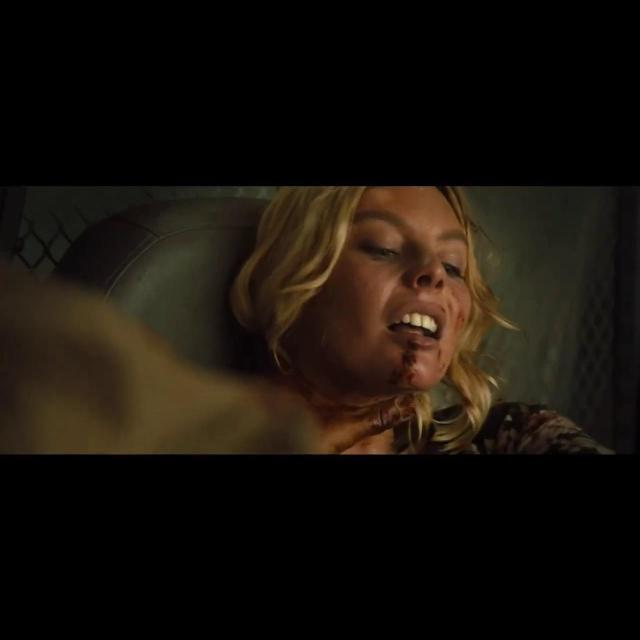blood: (386, 336, 444, 384), (357, 394, 416, 436), (452, 290, 462, 320), (446, 298, 456, 322), (456, 317, 465, 335)
